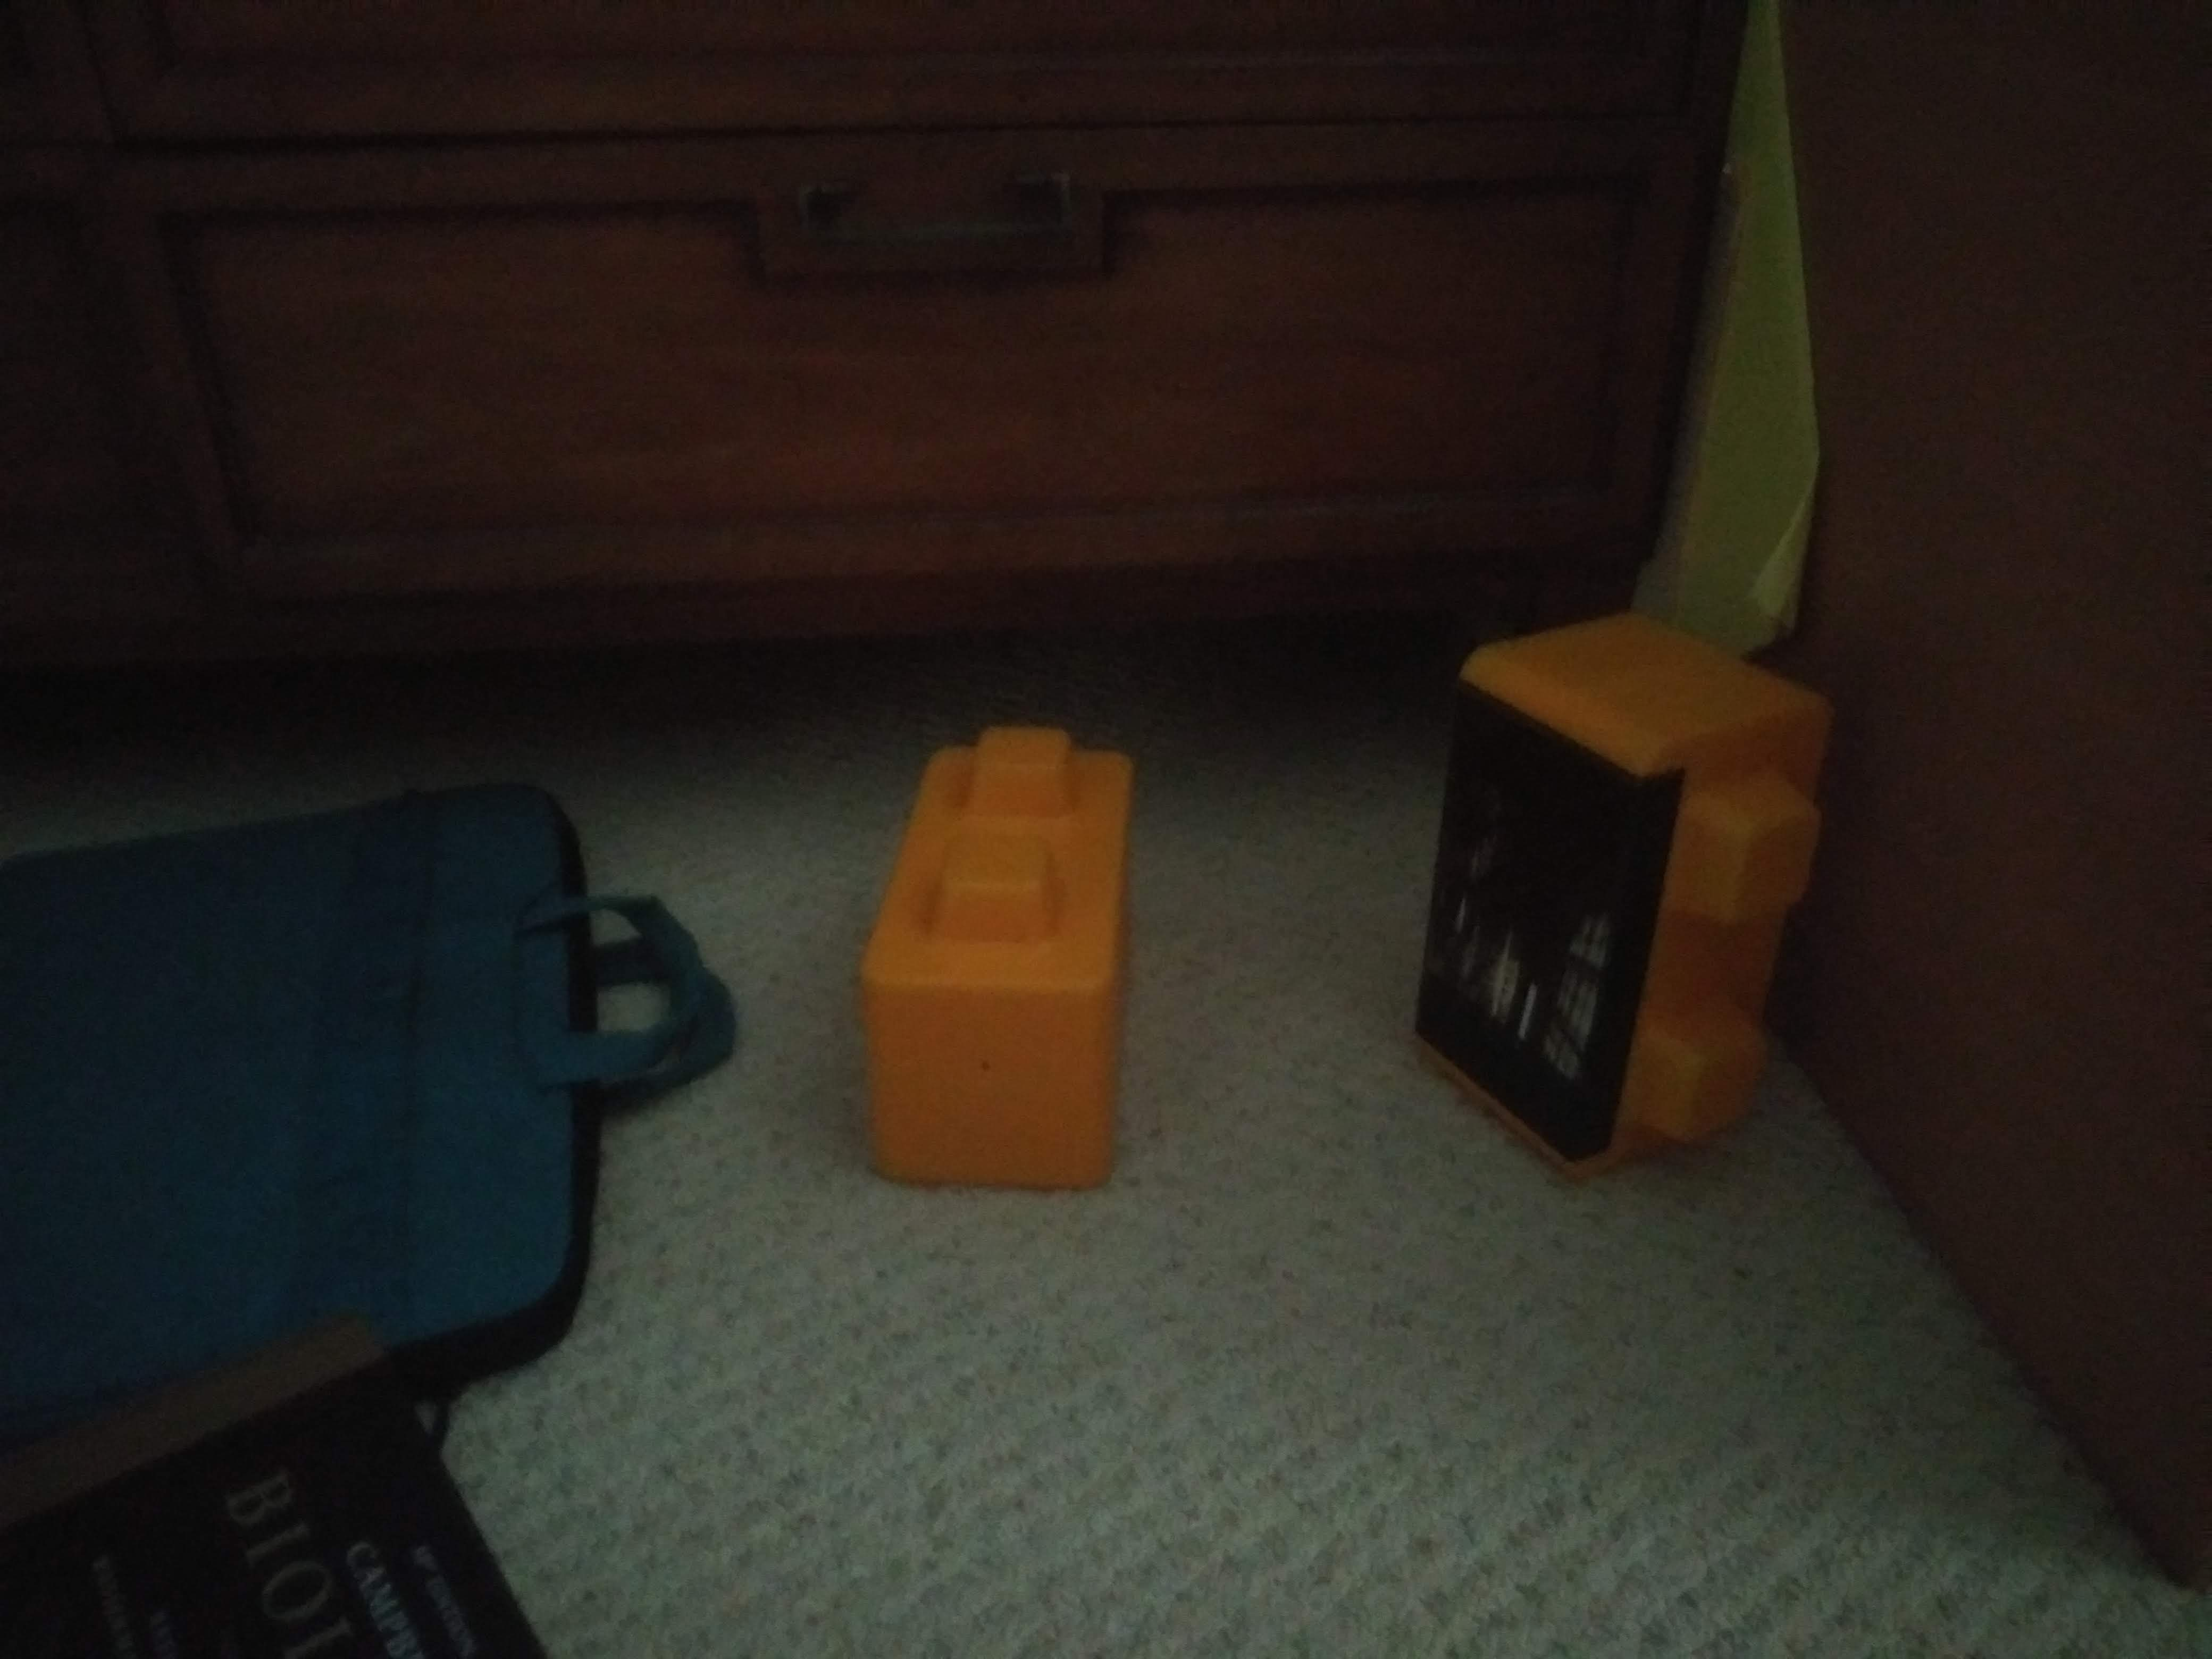skystone: (1437, 634, 1796, 1173)
stone: (857, 741, 1132, 1190)
